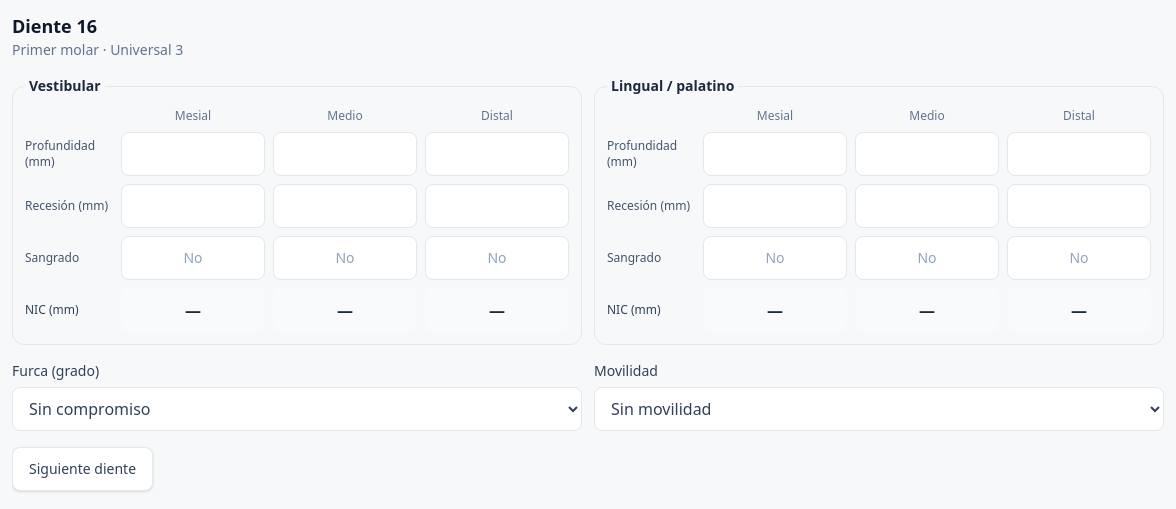
Scenario: <ToothCapture>: captura rápida de 6 puntos › calcula el NIC al instante: profundidad + recesión
Type "3" into the field named "Profundidad vestibular mesial" at (193, 154), box [121,132,265,176]
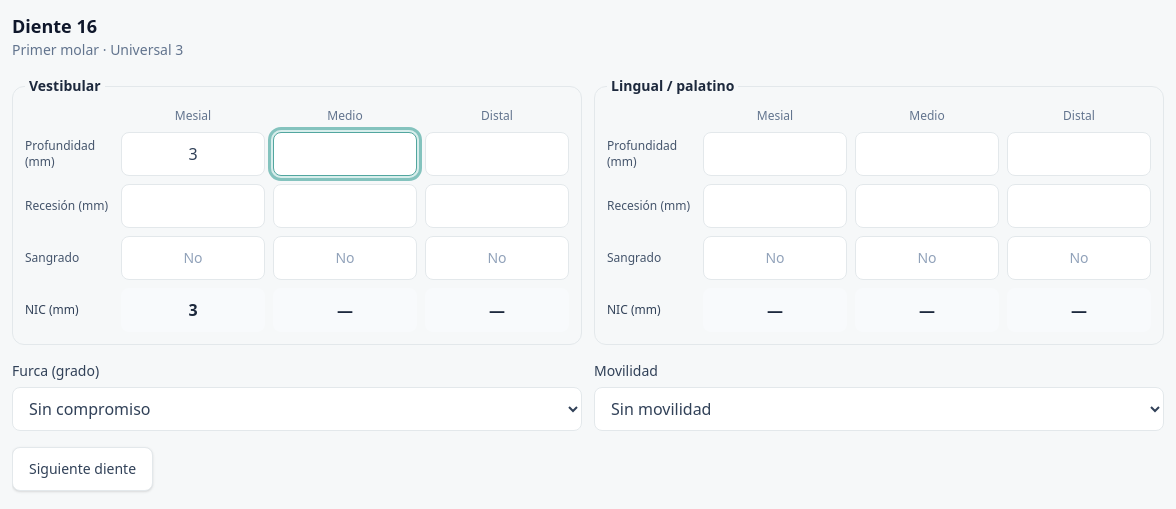
Check: the text named "NIC vestibular mesial" reads "3", box [188,299,198,321]
Type "2" into the field named "Recesión vestibular mesial" at (193, 206), box [121,184,265,228]
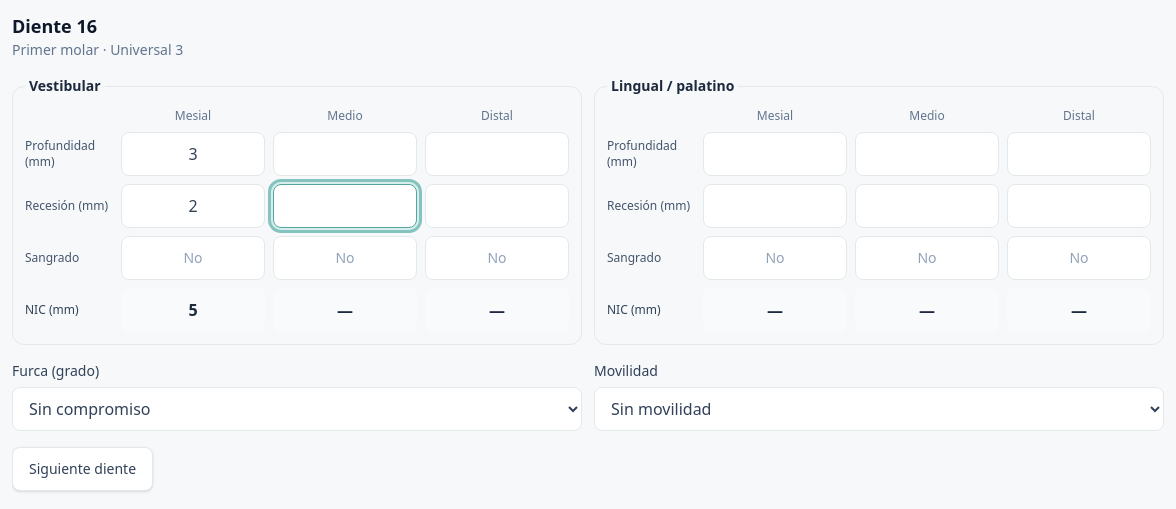
Check: the text named "NIC vestibular medio" reads "—", box [337,299,353,321]
Check: the text named "NIC vestibular mesial" reads "5", box [188,299,198,321]
